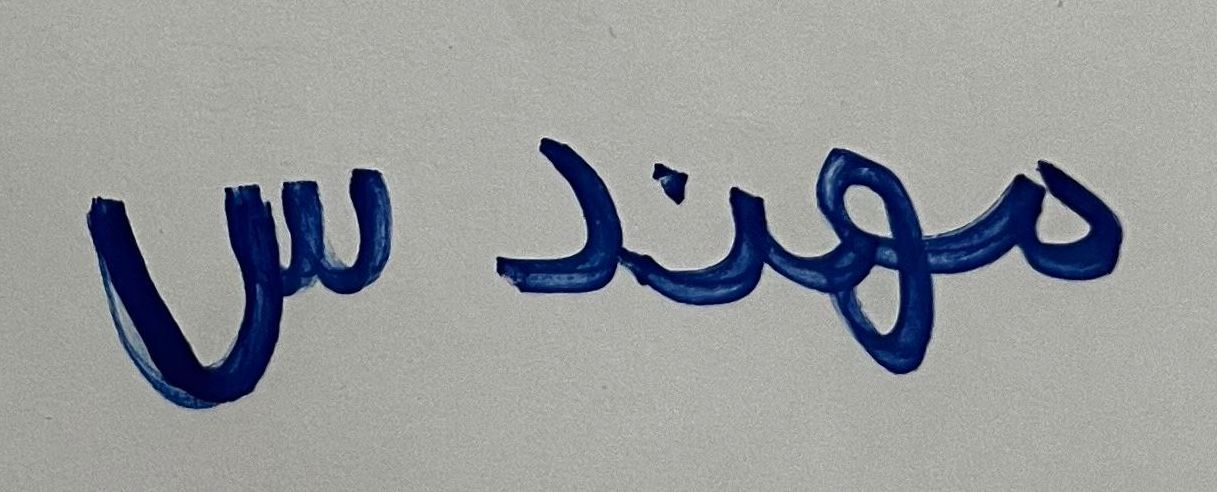dal: (447, 85, 622, 376)
heh: (789, 91, 952, 428)
meem: (958, 114, 1171, 342)
noon: (628, 97, 784, 394)
seen: (54, 97, 437, 440)
